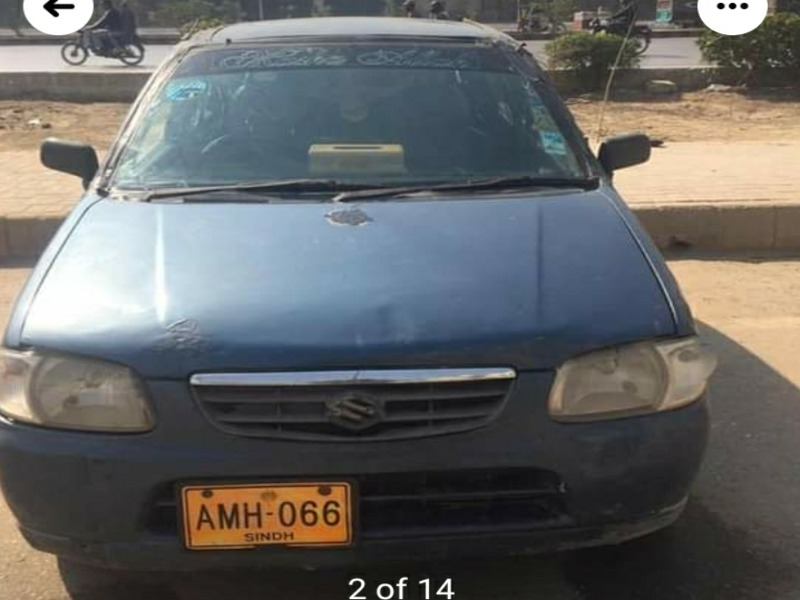License Plate: (177, 480, 359, 551)
